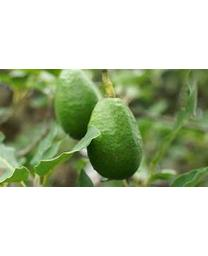avocado: (85, 97, 144, 180), (56, 69, 101, 141)
